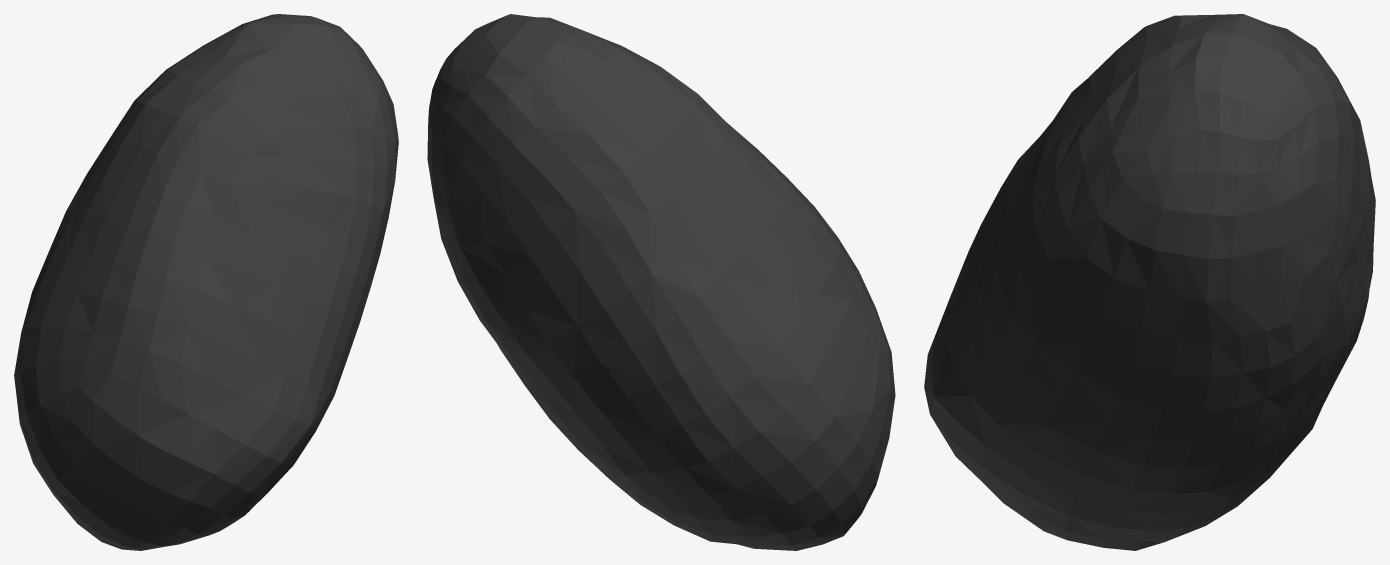
File: dorsal_sesamoid_middle_V_L.glb
3 renders of one model, left to right at view 1: azimuth 30°, elevation 25°; view 2: azimuth 150°, elevation 25°; view 3: azimuth 270°, elevation 25°, orthographic. The views are drawn at different scales.
Parts seen in each view (by area): view 1: dorsal_sesamoid_middle_V_L; view 2: dorsal_sesamoid_middle_V_L; view 3: dorsal_sesamoid_middle_V_L.
Part boxes in pixels (<box>): dorsal_sesamoid_middle_V_L: <box>14,14,398,550</box>; dorsal_sesamoid_middle_V_L: <box>427,14,895,550</box>; dorsal_sesamoid_middle_V_L: <box>924,14,1375,550</box>.
Bounding box in the file's own units: 0.00442 × 0.00516 × 0.00348.
Materials: 1 (1 with a texture image).
